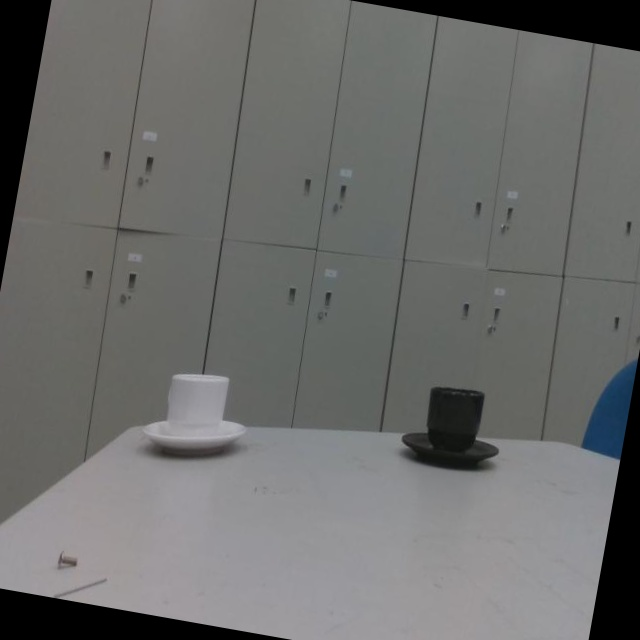black: (401, 377, 506, 477)
white: (148, 355, 248, 457)
